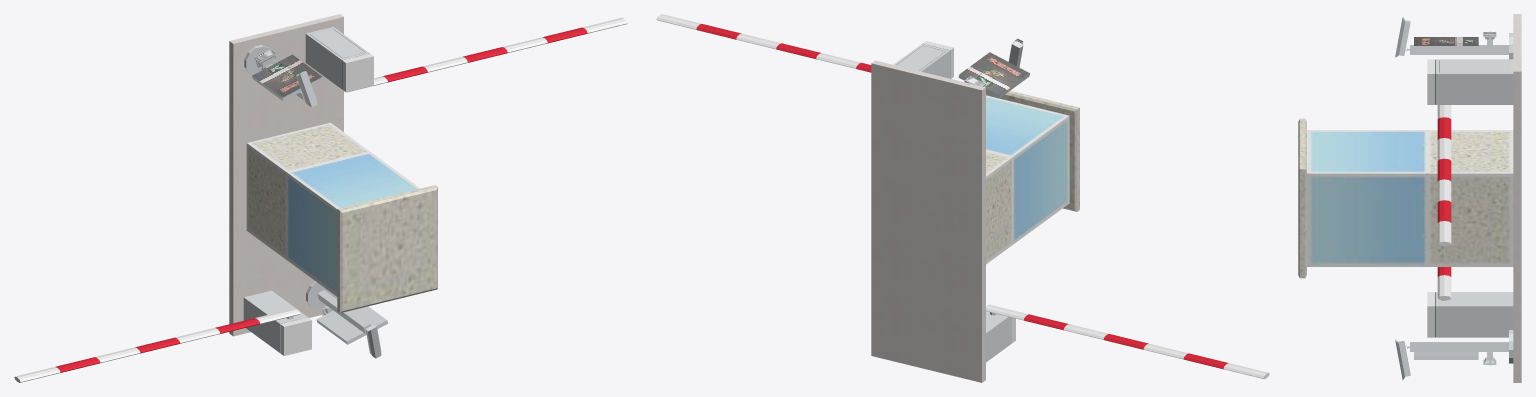
3 renders of one model, left to right at view 1: azimuth 30°, elevation 25°; view 2: azimuth 150°, elevation 25°; view 3: azimuth 270°, elevation 25°, orthographic. The views are drawn at different scales.
Parts seen in each view (by area): view 1: 亭子, 底座, 亭子顶部, 摄像头2, 抬杆1, 抬杆2; view 2: 底座, 亭子, 抬杆2, 抬杆1, 摄像头2, 亭子顶部; view 3: 亭子, 抬杆1, 抬杆2, 摄像头2, 底座, 亭子顶部.
Part boxes in pixels (x1,y1,x2,y2): 亭子: (246,122,420,296); 底座: (229,14,343,336); 亭子顶部: (337,185,437,312); 摄像头2: (244,45,387,358); 抬杆1: (305,17,627,92); 抬杆2: (14,290,311,382); 底座: (871,60,985,382); 亭子: (986,95,1069,264); 抬杆2: (986,304,1269,379); 抬杆1: (656,14,953,78); 摄像头2: (958,38,1029,98); 亭子顶部: (986,90,1079,211); 亭子: (1307,130,1513,266); 抬杆1: (1427,59,1513,246); 抬杆2: (1427,267,1513,337); 摄像头2: (1395,17,1513,379); 底座: (1513,14,1521,382); 亭子顶部: (1298,118,1306,278).
Bounding box in the file's own units: 8.68 × 4.17 × 2.6.
Materials: 9 (5 with a texture image).
